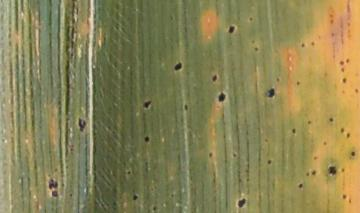tarspot: (76, 116, 87, 133), (46, 176, 59, 190), (262, 86, 276, 99), (236, 196, 248, 210), (215, 90, 227, 103), (171, 60, 183, 73), (142, 98, 153, 111), (327, 164, 338, 177), (226, 24, 237, 35), (50, 189, 60, 199), (210, 73, 218, 84), (327, 11, 336, 20), (131, 193, 139, 203), (340, 192, 348, 202), (143, 134, 150, 145), (341, 75, 348, 86), (262, 137, 271, 145), (183, 102, 189, 113), (349, 150, 357, 158), (312, 154, 320, 162), (310, 168, 317, 177), (339, 166, 346, 175), (299, 41, 306, 50), (207, 151, 214, 159), (266, 158, 273, 166), (297, 182, 304, 190), (352, 87, 360, 94), (339, 66, 346, 74), (338, 59, 345, 67), (151, 204, 157, 213), (339, 126, 345, 135), (295, 79, 301, 88), (247, 15, 253, 24), (169, 192, 175, 201), (231, 151, 238, 158), (305, 119, 312, 126), (309, 40, 316, 47), (274, 76, 281, 83), (328, 18, 335, 25), (67, 192, 75, 198), (345, 131, 351, 139), (322, 139, 328, 147), (344, 57, 350, 65), (252, 46, 260, 52), (329, 30, 335, 38), (291, 126, 296, 135), (125, 170, 132, 176), (328, 116, 334, 123), (305, 171, 310, 178)
